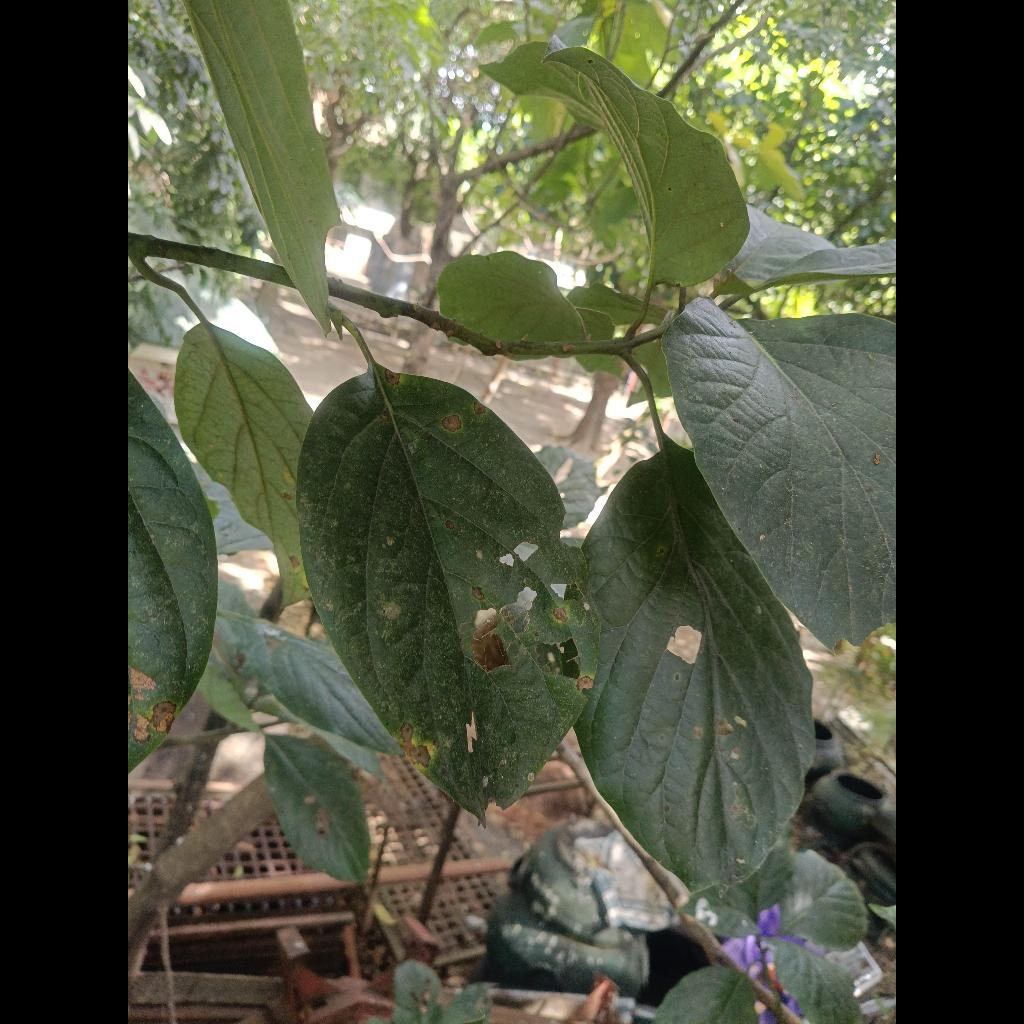Pest Infested: (298, 360, 600, 820), (575, 438, 814, 890)
